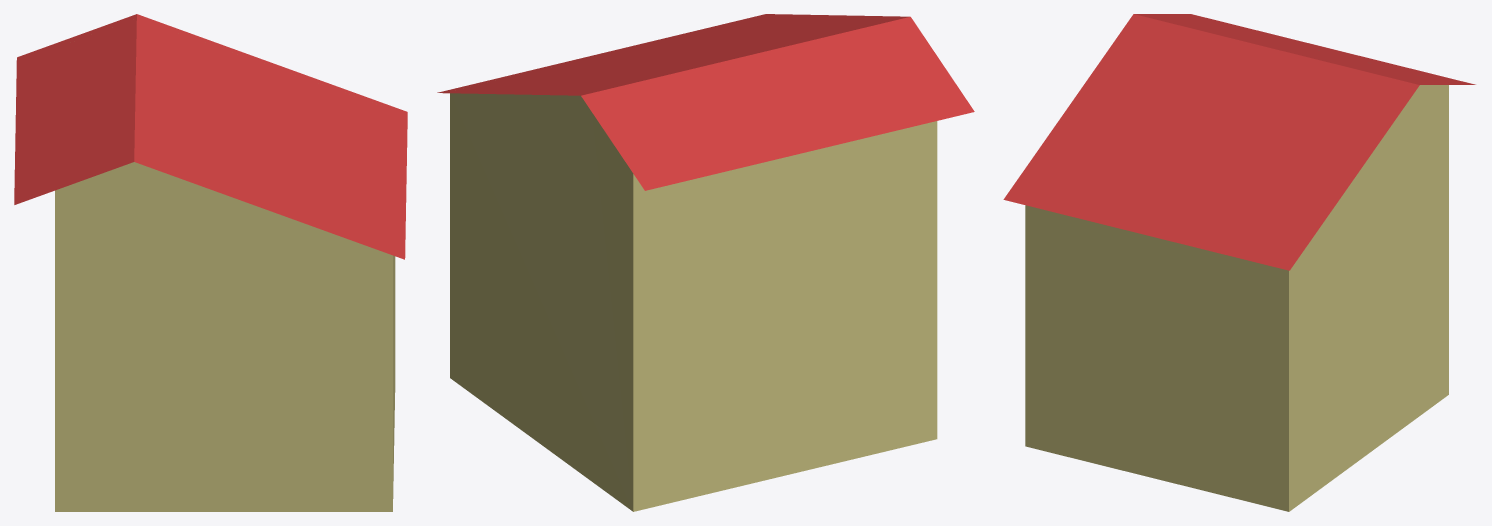
3 views of the same model, side by side, from view 1: azimuth 30°, elevation 25°; view 2: azimuth 150°, elevation 25°; view 3: azimuth 270°, elevation 25° (orthographic). The views are drawn at different scales.
Size of the model in its own units: 10.36 by 10.06 by 7.94.
